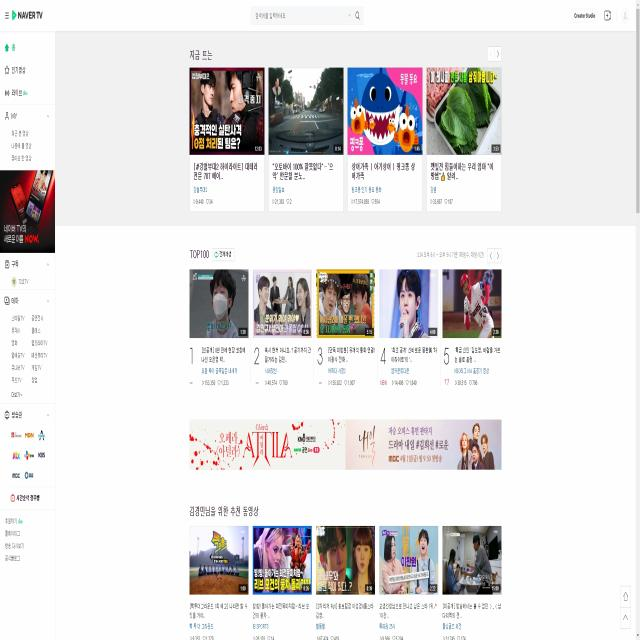menu-bar: (2, 6, 46, 22)
search: (250, 4, 364, 29)
